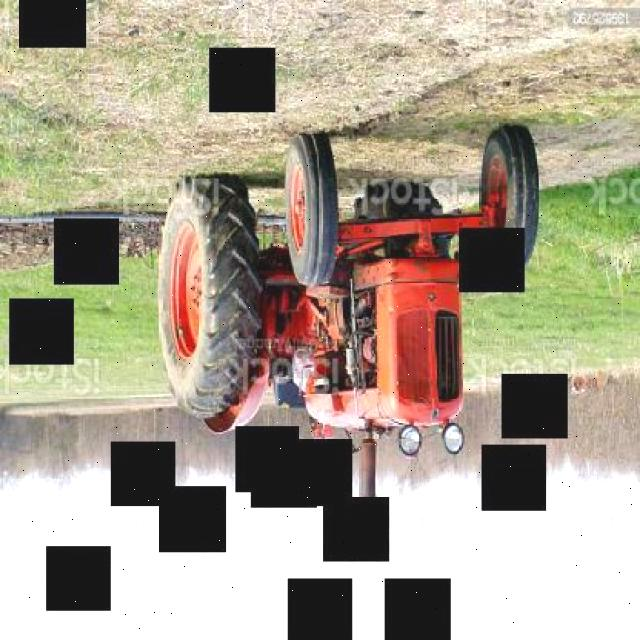Tratores - v5 YOLO V8L 2024-11-13: (103, 50, 572, 572)
